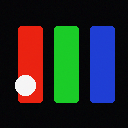2 circle: (15, 75, 35, 95)
